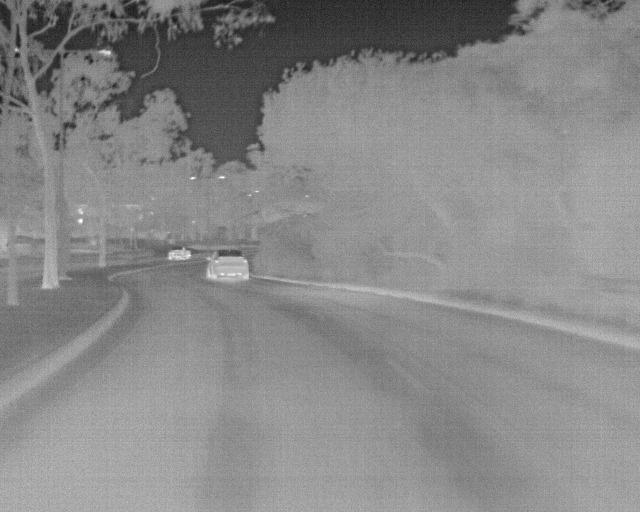car: (204, 248, 252, 281), (162, 241, 193, 260)
